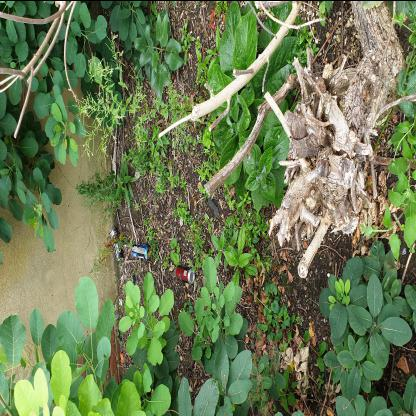metal: (109, 226, 123, 260), (175, 264, 195, 284), (132, 242, 152, 259)
